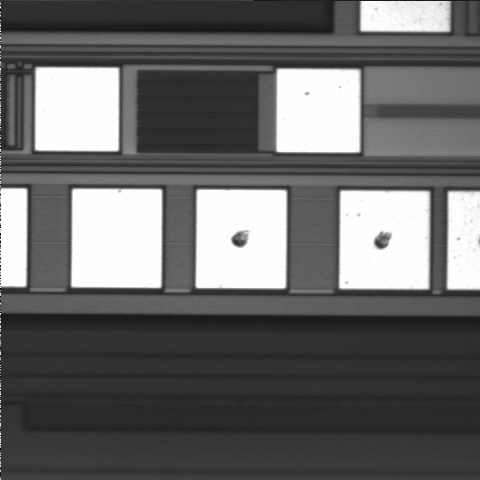pad: (72, 189, 162, 288), (196, 190, 286, 288), (339, 191, 429, 289), (35, 68, 119, 151), (277, 69, 360, 152)
